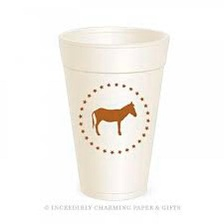paper_cup: (52, 22, 175, 204)
